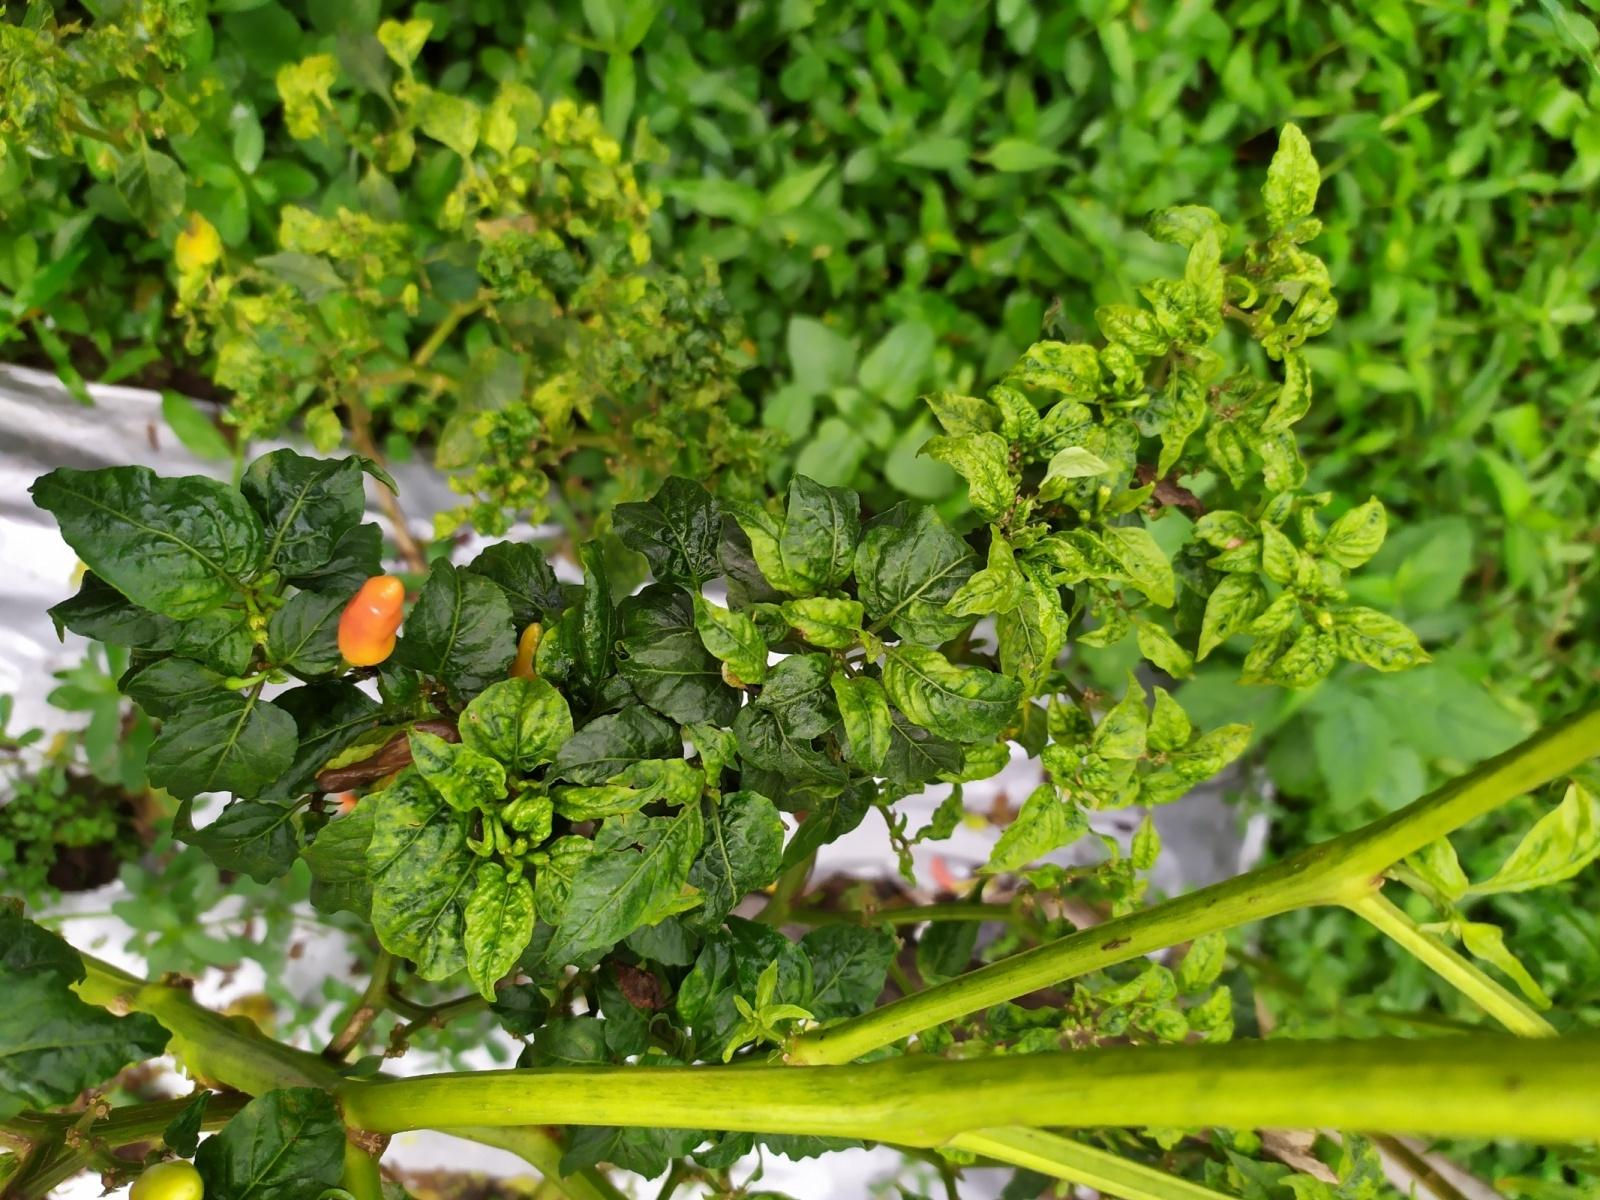cabai_normal: (336, 576, 406, 667)
